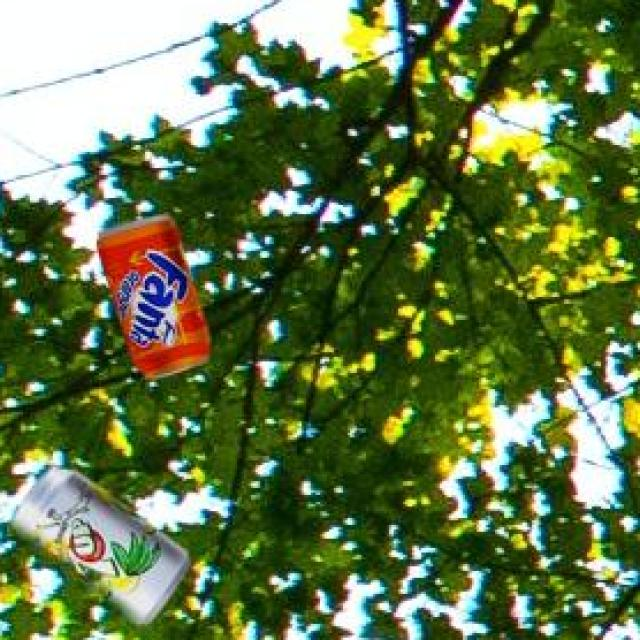logam: (8, 462, 185, 620), (93, 211, 206, 374)
